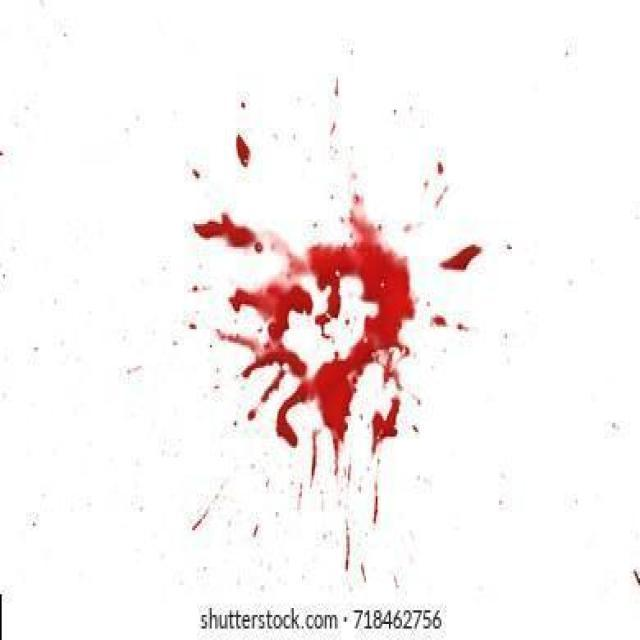flood: (183, 206, 498, 474)
